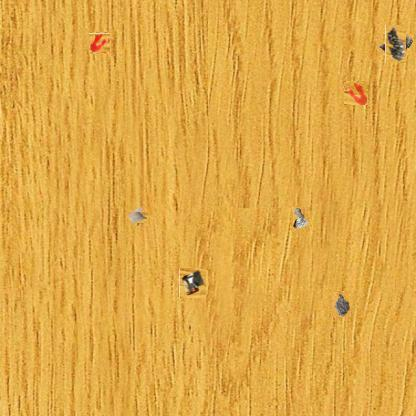dirty: (381, 30, 411, 59), (179, 269, 207, 298), (292, 207, 312, 233), (331, 291, 351, 317), (130, 209, 146, 225)
liquid: (344, 81, 368, 105), (89, 33, 110, 53)
